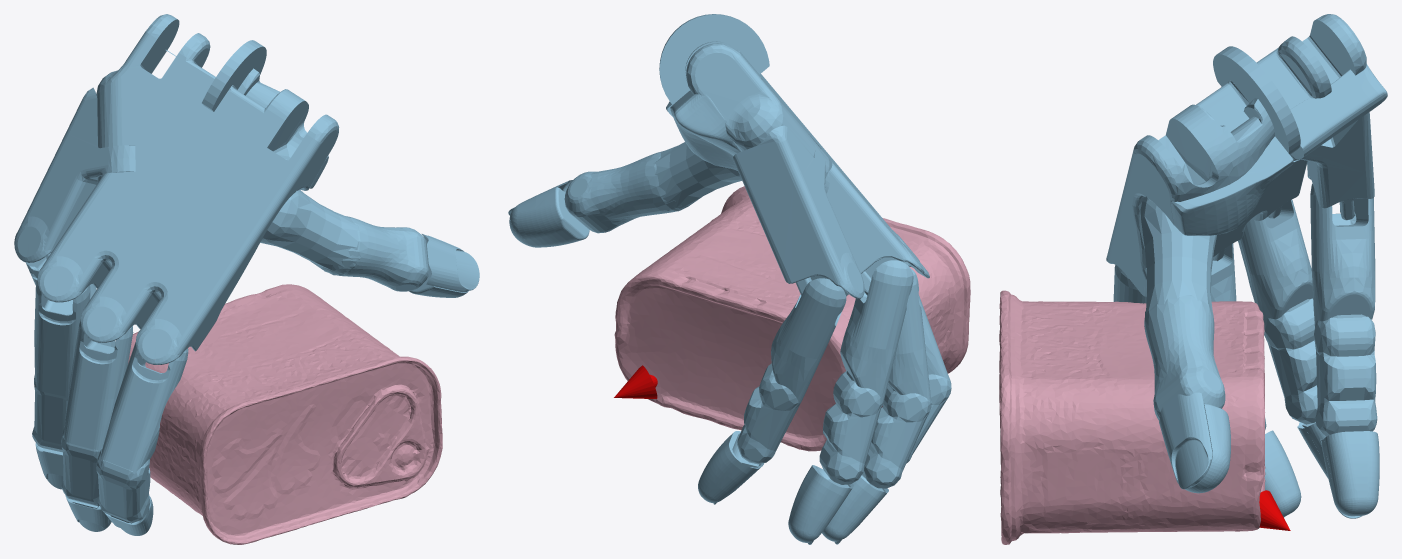
3 views of the same model, side by side, from view 1: azimuth 30°, elevation 25°; view 2: azimuth 150°, elevation 25°; view 3: azimuth 270°, elevation 25° (orthographic). The views are drawn at different scales.
Parts seen in each view (by area): view 1: world, potted_meat_can.stl; view 2: world, potted_meat_can.stl; view 3: world, potted_meat_can.stl.
Boxes of the visible parts, x1,y1,x2,y2 form: world: (14, 14, 479, 535); potted_meat_can.stl: (128, 284, 442, 544); world: (508, 14, 951, 544); potted_meat_can.stl: (614, 186, 970, 451); world: (1106, 14, 1387, 530); potted_meat_can.stl: (999, 290, 1265, 544).
Size of the model in its own units: 0.1768 by 0.1924 by 0.122.
